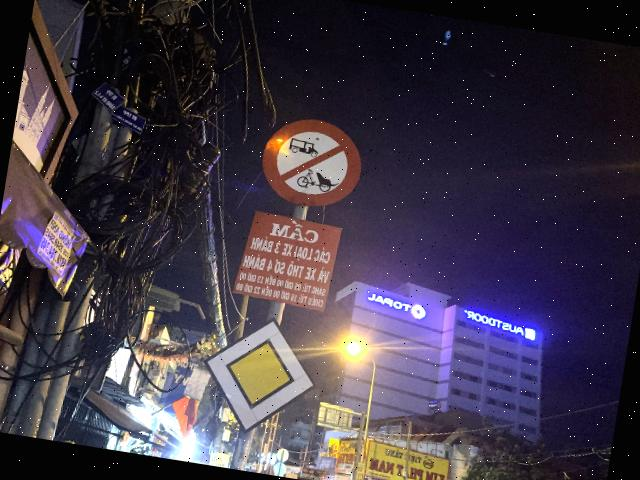bat-dau-duong-uu-tien: (193, 308, 325, 443)
cam-xe-3-banh-xe-tho-so-4-banh: (255, 111, 368, 215)
